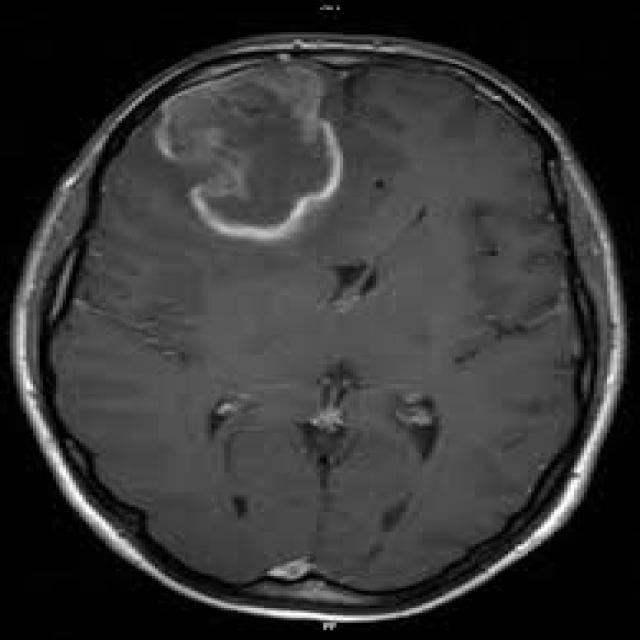Tumor-Cell: (135, 97, 343, 228)
